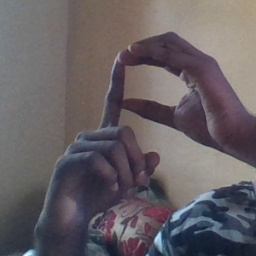P: (69, 27, 221, 192)
